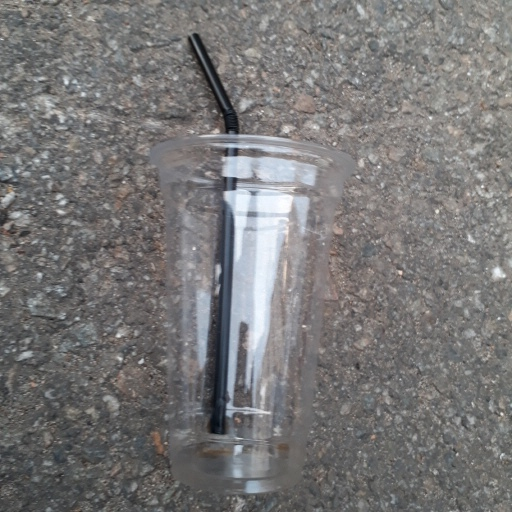Plastic_2: (148, 35, 356, 494)
